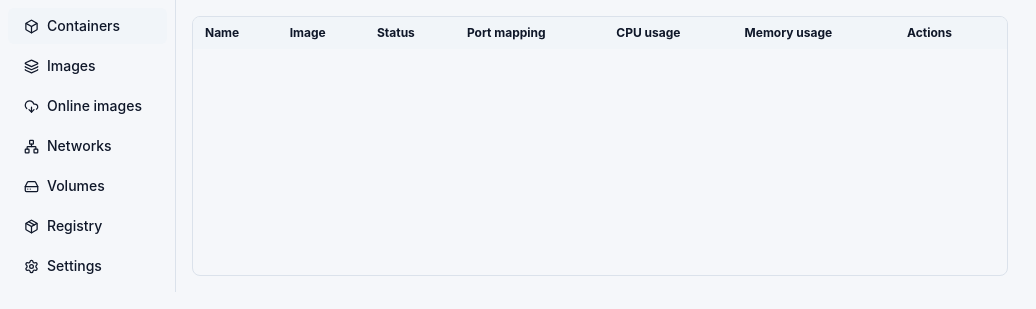
Scenario: DockerPanel › renders networks workspace in en-US
Click the tab with id "docker-tab-networks": (88, 146) [8, 128, 167, 164]
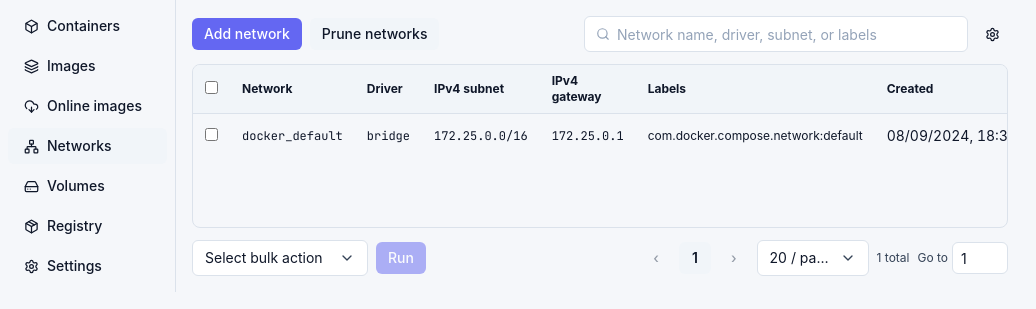
Expected: the text "Add network" is shown, [192, 18, 302, 50]
Expected: the text "Prune networks" is shown, [310, 18, 440, 50]
Expected: the text "Driver" is shown, [355, 65, 422, 114]
